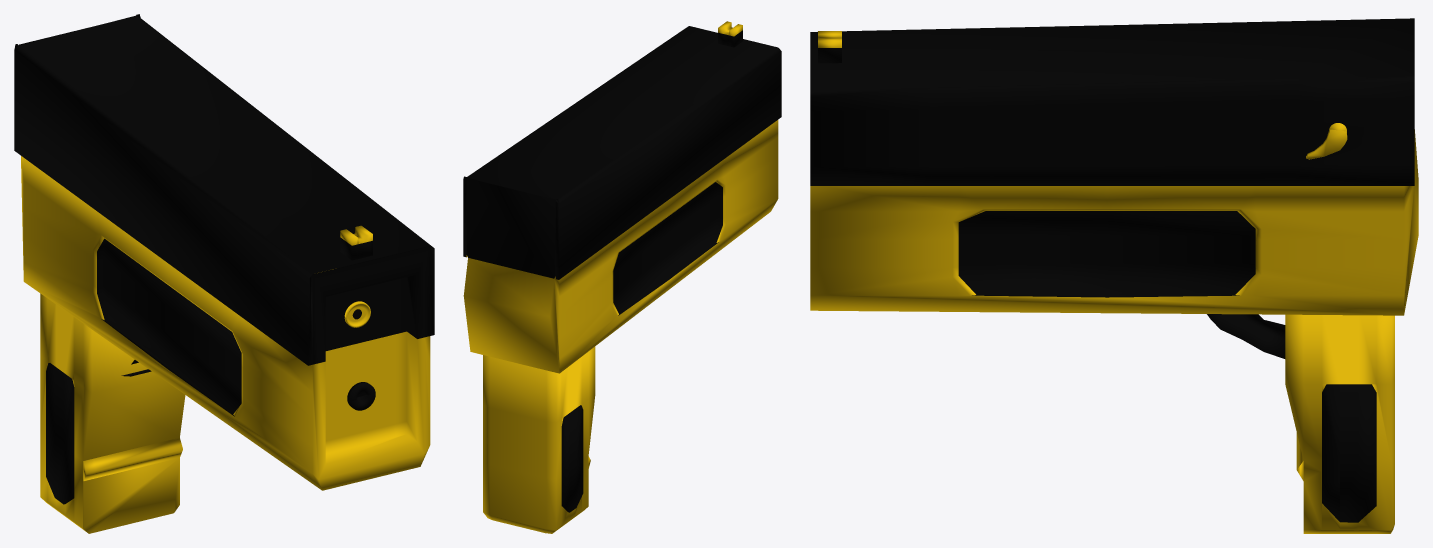
File: Taser.fbx
3 views of the same model, side by side, from view 1: azimuth 30°, elevation 25°; view 2: azimuth 150°, elevation 25°; view 3: azimuth 270°, elevation 25° (orthographic). The views are drawn at different scales.
Visible parts, largest first — view 1: Taser; view 2: Taser; view 3: Taser.
Boxes of the visible parts, x1,y1,x2,y2 form: Taser: [14, 14, 434, 533]; Taser: [463, 21, 781, 533]; Taser: [810, 18, 1418, 533].
Bounding box in the file's own units: 22.78 × 77.24 × 89.84.
